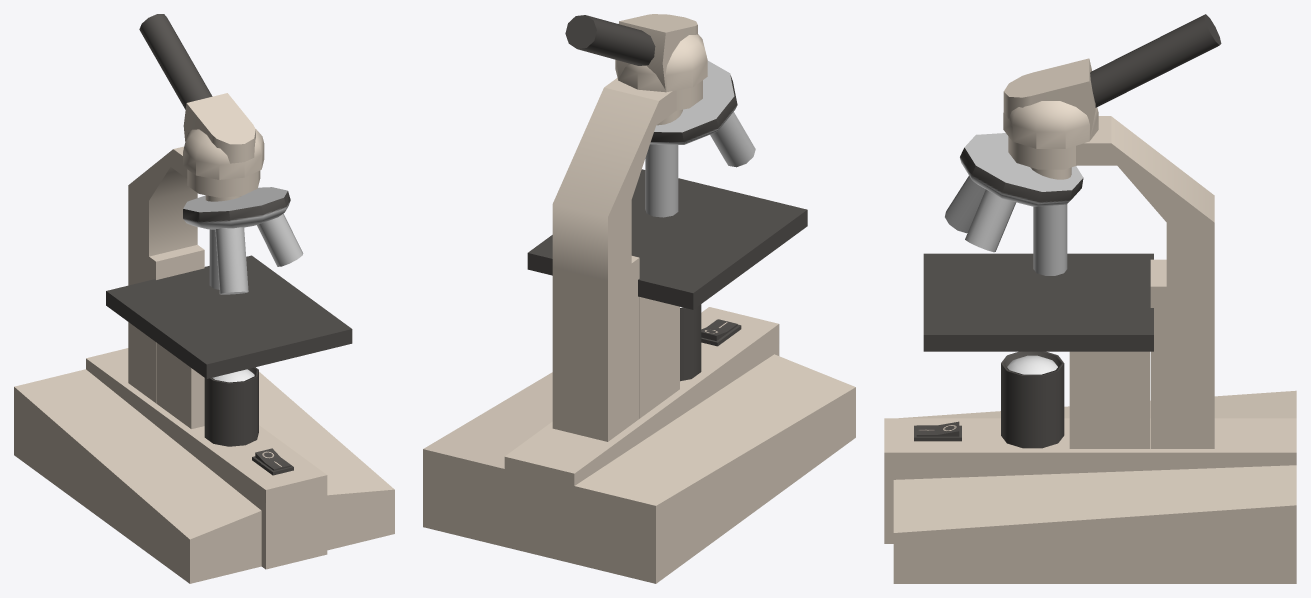
Rendered from Microscope.fbx.
The picture shows the model from 3 angles, left to right: view 1: azimuth 30°, elevation 25°; view 2: azimuth 150°, elevation 25°; view 3: azimuth 270°, elevation 25°; orthographic projection. The views are drawn at different scales.
Visible parts, largest first — view 1: Microscope; view 2: Microscope; view 3: Microscope.
Part boxes in pixels (x1,y1,x2,y2): Microscope: (14,14,394,583); Microscope: (423,14,855,583); Microscope: (884,14,1296,583).
Size of the model in its own units: 2.38 by 4.96 by 3.63.
